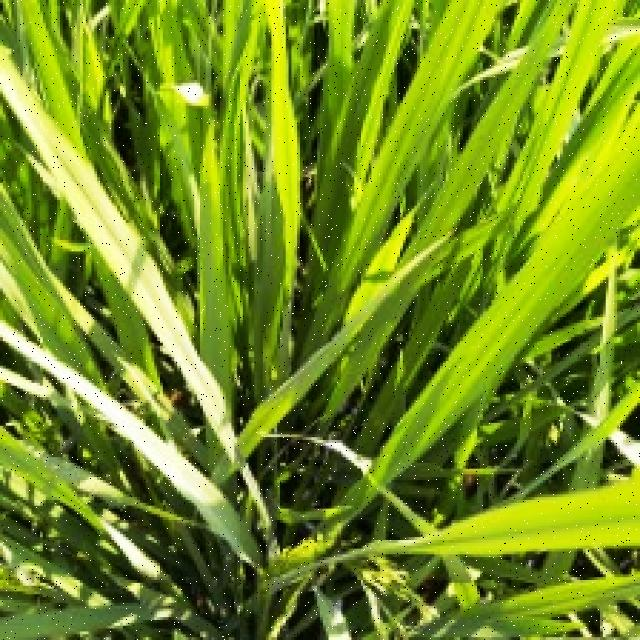health: (245, 7, 640, 640)
